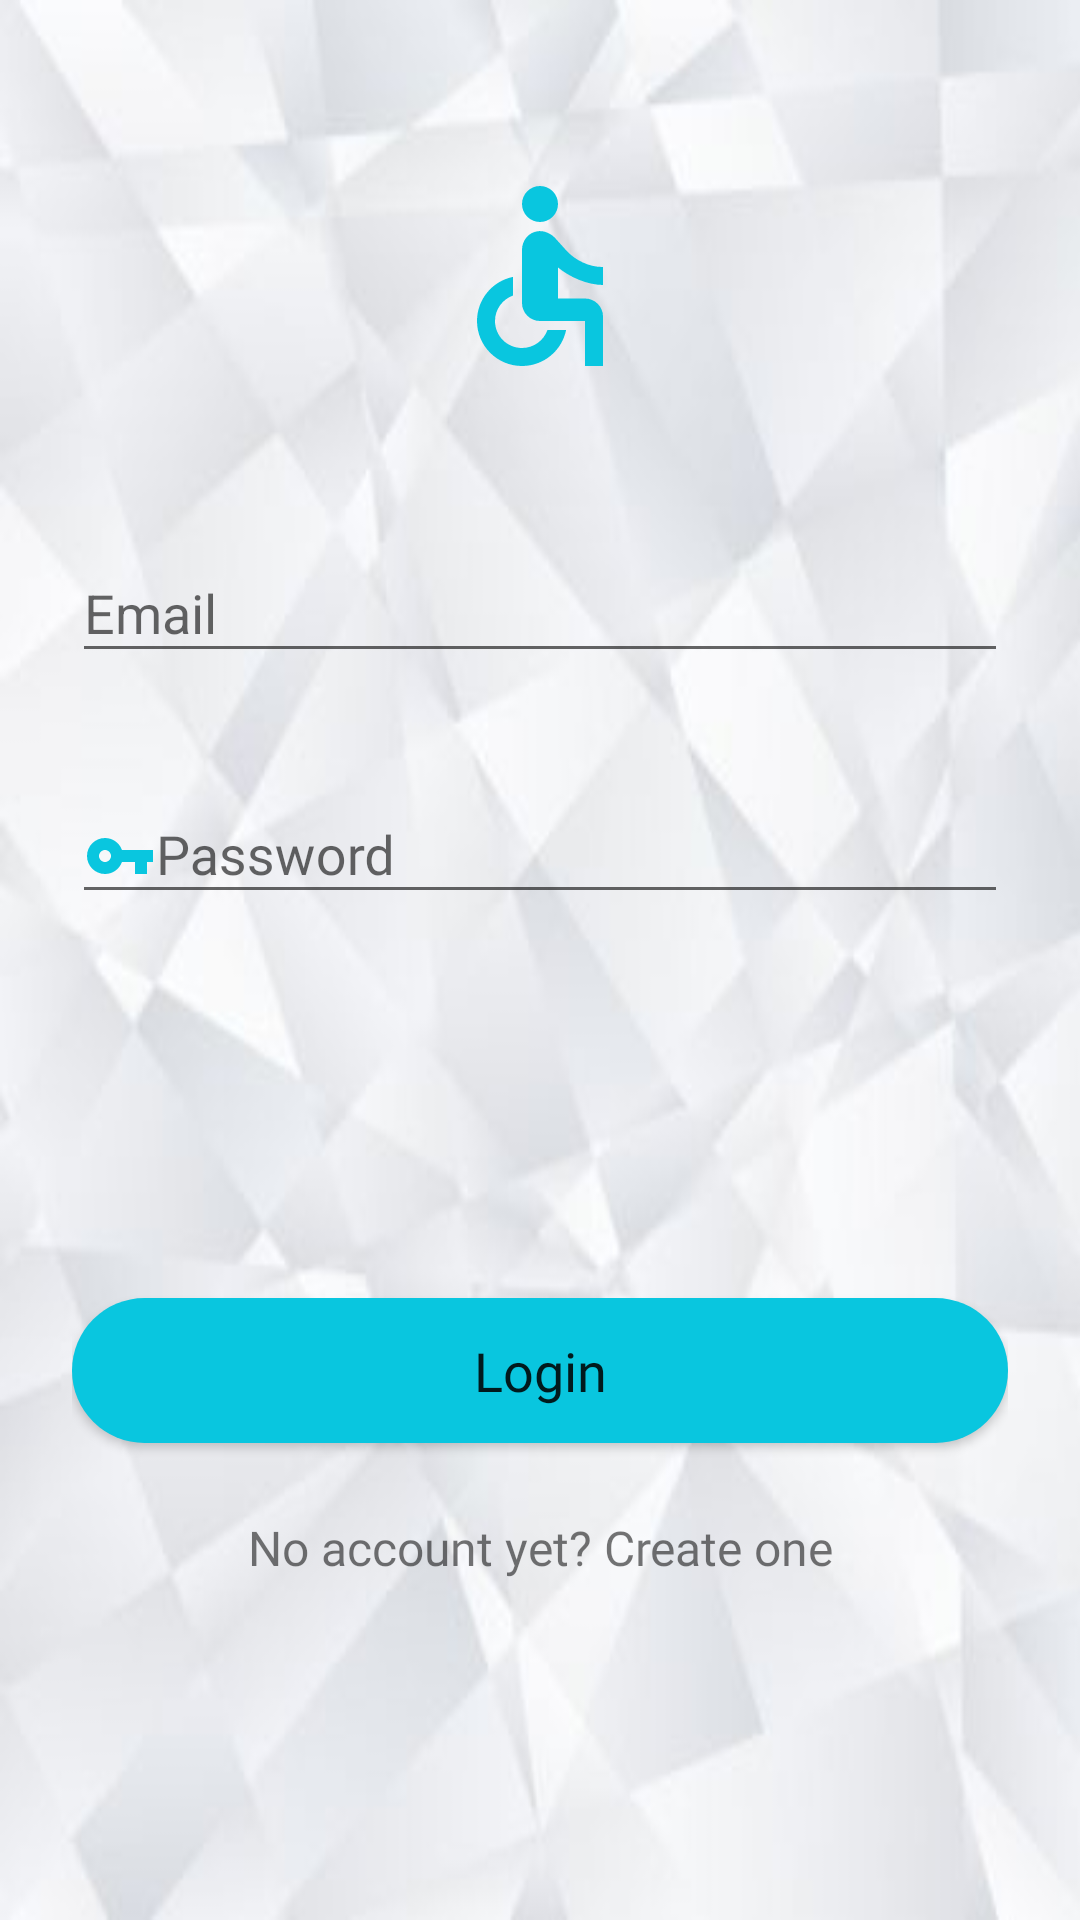

Locate icon controls on the screen. Image size 1080 x 1920, boxes as (x1, y1, x2, y2).
accessible: (477, 186, 603, 366)
